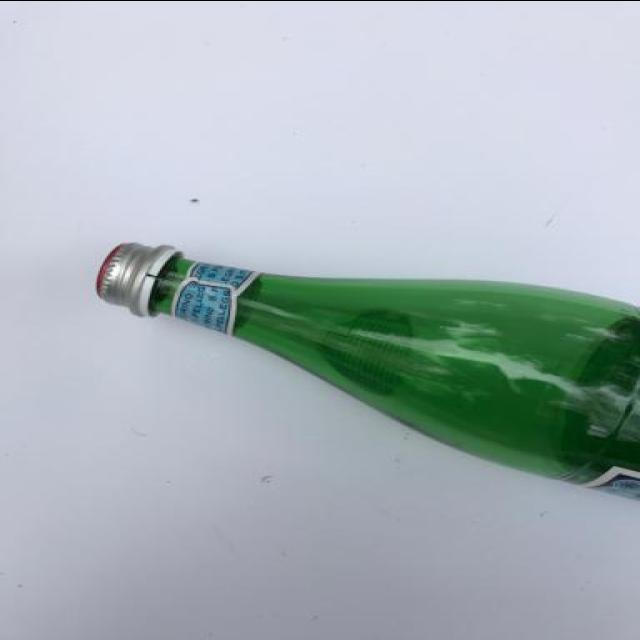glass: (81, 221, 640, 529)
